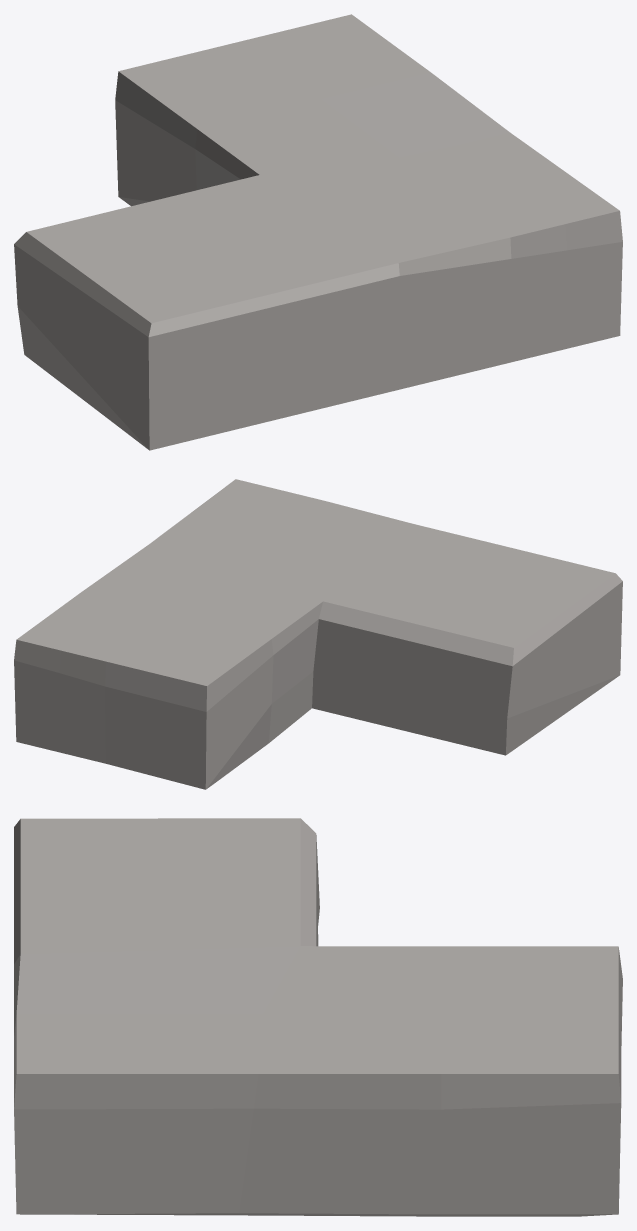
3 views of the same model, one above another, from view 1: azimuth 30°, elevation 25°; view 2: azimuth 150°, elevation 25°; view 3: azimuth 270°, elevation 25° (orthographic). The views are drawn at different scales.
Parts seen in each view (by area): view 1: base-L-2x2; view 2: base-L-2x2; view 3: base-L-2x2.
Boxes of the visible parts, x1=… form: base-L-2x2: x1=14, y1=14, x2=622, y2=450; base-L-2x2: x1=14, y1=479, x2=622, y2=789; base-L-2x2: x1=14, y1=818, x2=622, y2=1216.
Size of the model in its own units: 2.01 by 1.99 by 0.5262.
